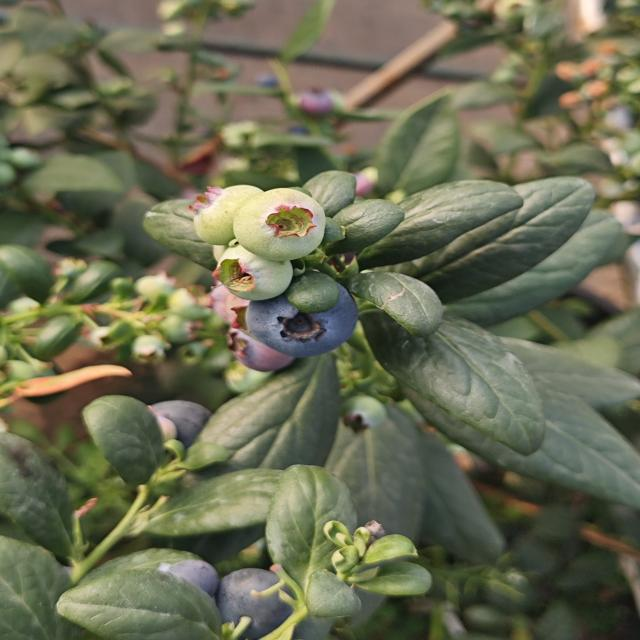ripe: (243, 273, 361, 360), (221, 565, 309, 640), (133, 389, 226, 458), (126, 543, 220, 607), (265, 71, 347, 133)
